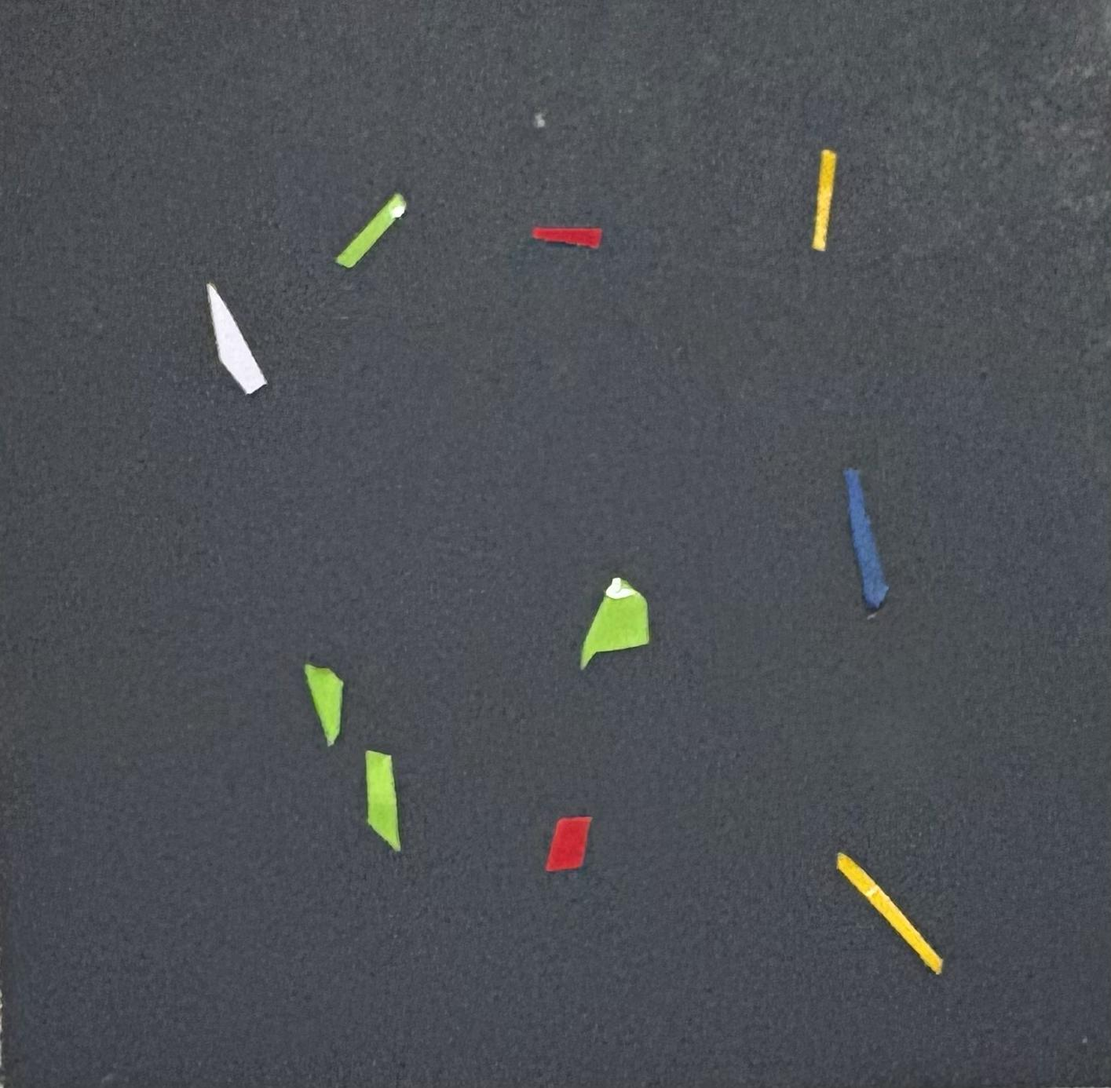Microplastic Particle: (813, 832, 962, 985), (826, 449, 897, 628), (196, 269, 279, 404), (585, 549, 675, 671), (336, 183, 428, 277), (528, 198, 626, 265), (369, 738, 412, 867), (544, 807, 608, 889), (312, 646, 351, 763), (817, 137, 846, 269)
